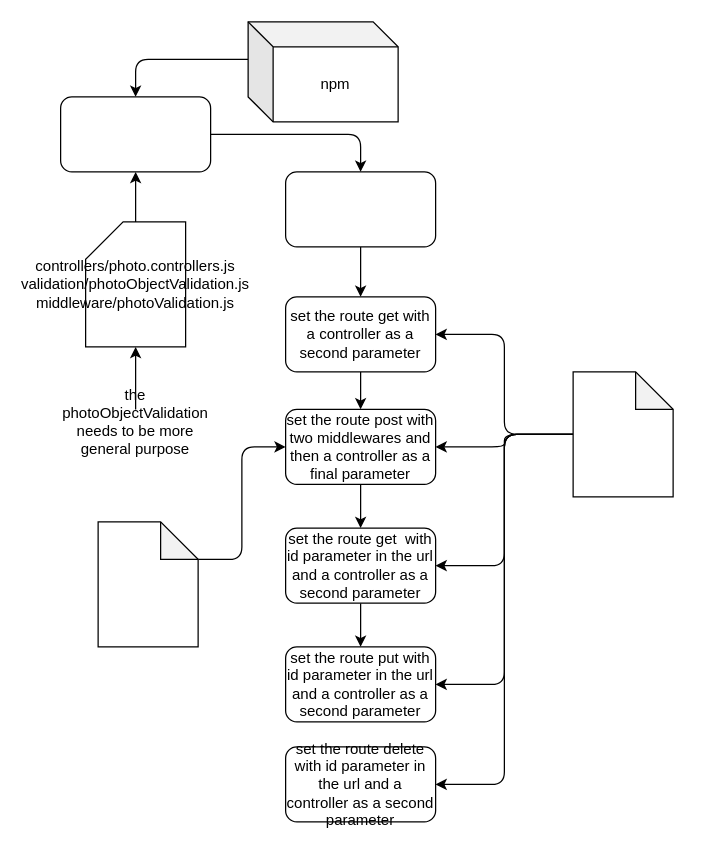
Image size: 708x851. Some labels were removed from this diagram. The shapes that lost their labels are listed below. From the top down, each one's centre as x and y in pixels, then its label:
At pixel 135 134: "import custom and npm modules".
At pixel 360 209: "create an instance of router".
At pixel 622 434: "photos.controller.js".
At pixel 147 584: "validation/photoObjectValidation.js middleware/photoValidation.js".
